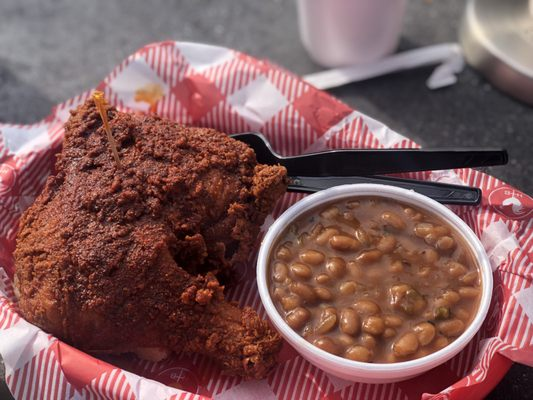pizza: (296, 0, 409, 70)
sandwich: (258, 148, 510, 174)
sushi: (256, 183, 495, 384), (459, 0, 533, 109)
